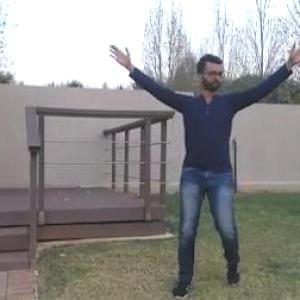takeoff: (105, 33, 299, 299)
